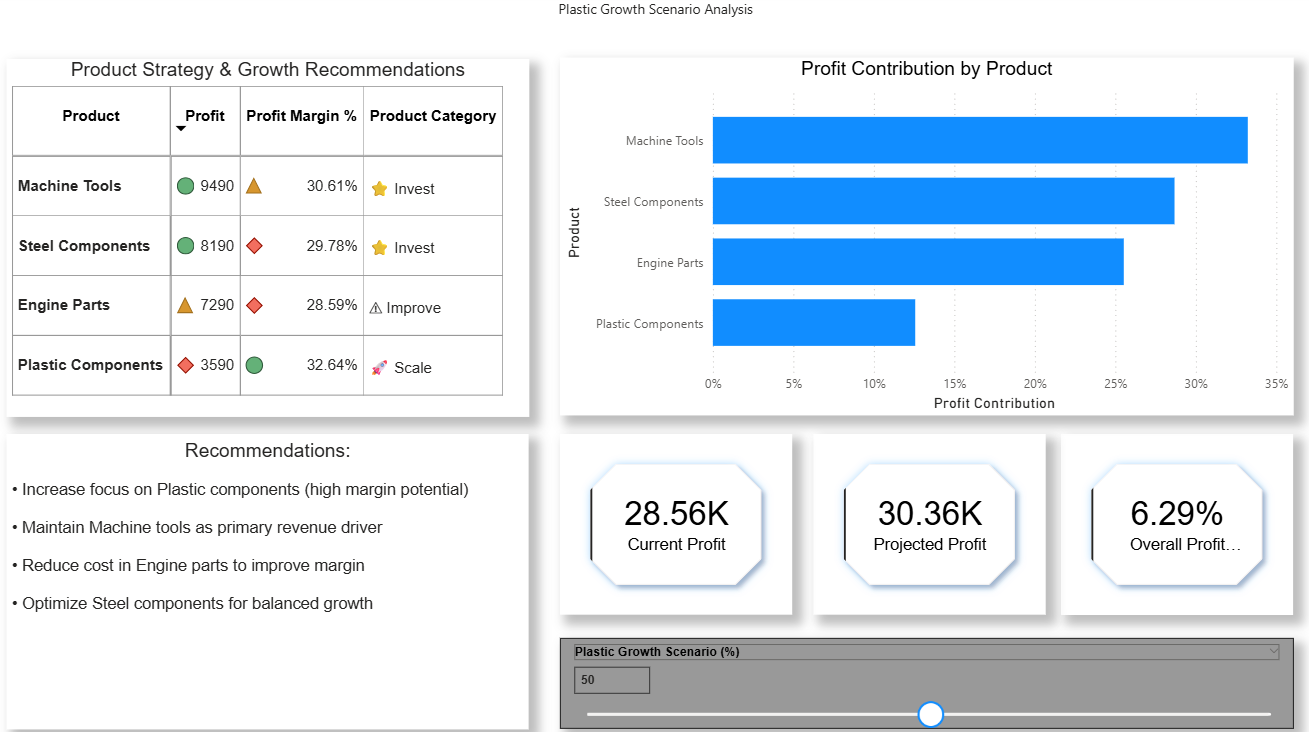

This screenshot's page, from the dashboard's own definition file:
{"tool":"powerbi","page":{"name":"Page 3","canvas":[1280,720],"ordinal":2},"visuals":[{"type":"textbox","box":[435.4,0,409.7,63.8],"z":0},{"type":"pivotTable","title":"Product Strategy & Growth Recommendations","fields":{"Rows":["Product.Product"],"Values":["Revenue.Profit","Revenue.Profit Margin %","Budget.Product Category"]},"box":[10.3,64.7,507.4,347.1],"z":1000},{"type":"barChart","title":"Profit Contribution by Product","fields":{"Category":["Product.Product"],"Y":["Budget.Profit Contribution %"]},"box":[547.1,63.2,711.8,347.1],"z":2000},{"type":"textbox","box":[9.9,427.4,506.9,286.6],"z":3000},{"type":"slicer","fields":{"Values":["Plastic Growth %.Plastic Growth %"]},"box":[547.1,626.5,711.8,88.2],"z":4000},{"type":"cardVisual","fields":{"Data":["Budget.Projected Profit"]},"box":[792.6,427.9,225,175],"z":5000},{"type":"cardVisual","fields":{"Data":["Revenue.Profit"]},"box":[547.1,427.9,225,175],"z":6000},{"type":"cardVisual","fields":{"Data":["Budget.Profit Change %"]},"box":[1033.8,427.9,225,175],"z":7000}]}

Visuals, with their boxes in screenshot pixels (x1, y1, x2, y2), scaled from the page's 1280x720 canvas onto the 1309x732 screenshot:
textbox: BBox(445, 0, 864, 65)
"Product Strategy & Growth Recommendations" pivotTable: BBox(11, 66, 529, 419)
"Profit Contribution by Product" barChart: BBox(559, 64, 1287, 417)
textbox: BBox(10, 435, 529, 726)
slicer - Plastic Growth %.Plastic Growth %: BBox(559, 637, 1287, 727)
cardVisual - Budget.Projected Profit: BBox(811, 435, 1041, 613)
cardVisual - Revenue.Profit: BBox(559, 435, 790, 613)
cardVisual - Budget.Profit Change %: BBox(1057, 435, 1287, 613)
